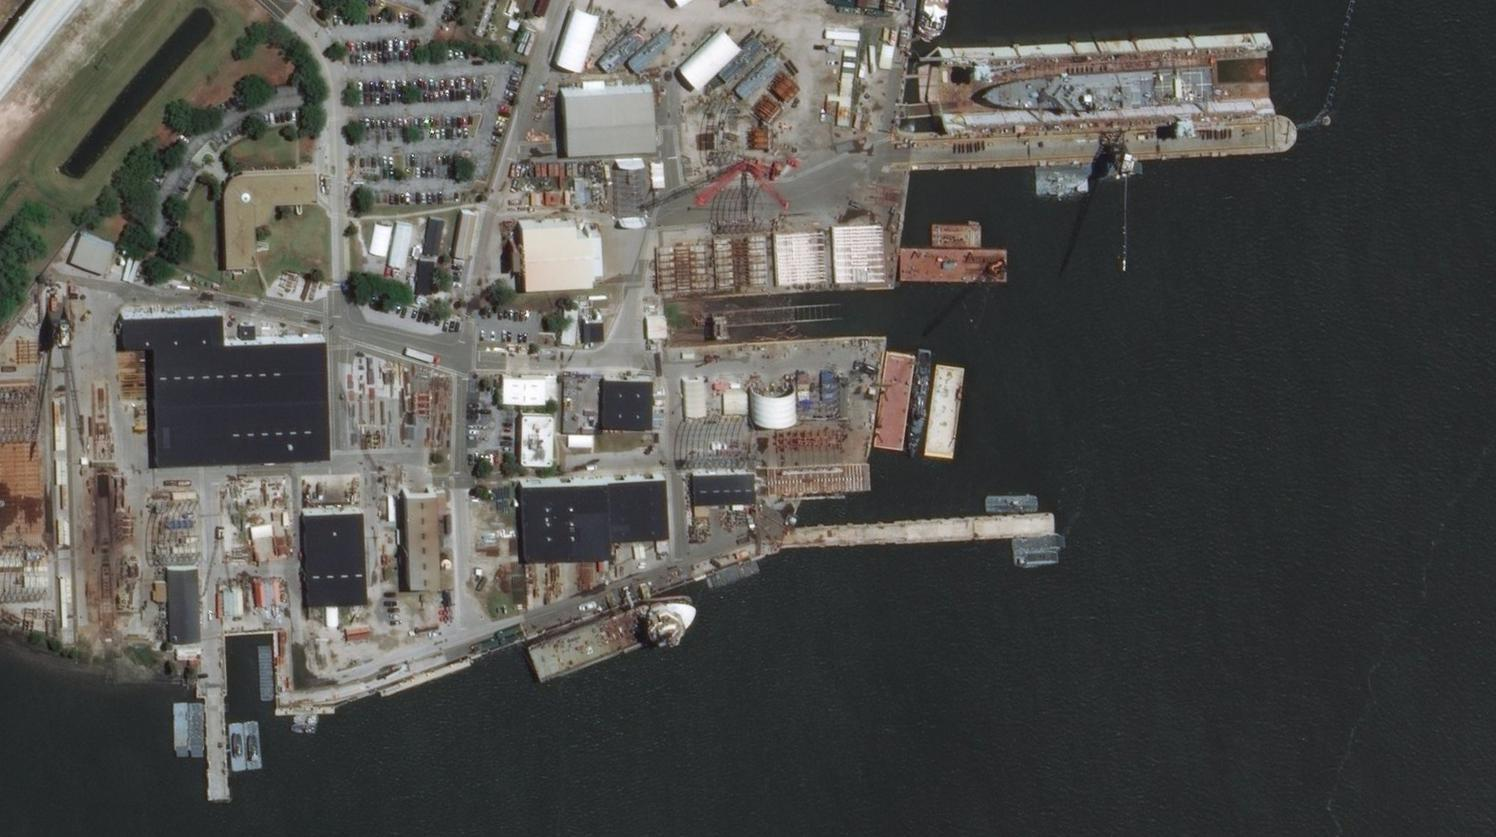patrol: (981, 63, 1227, 112)
